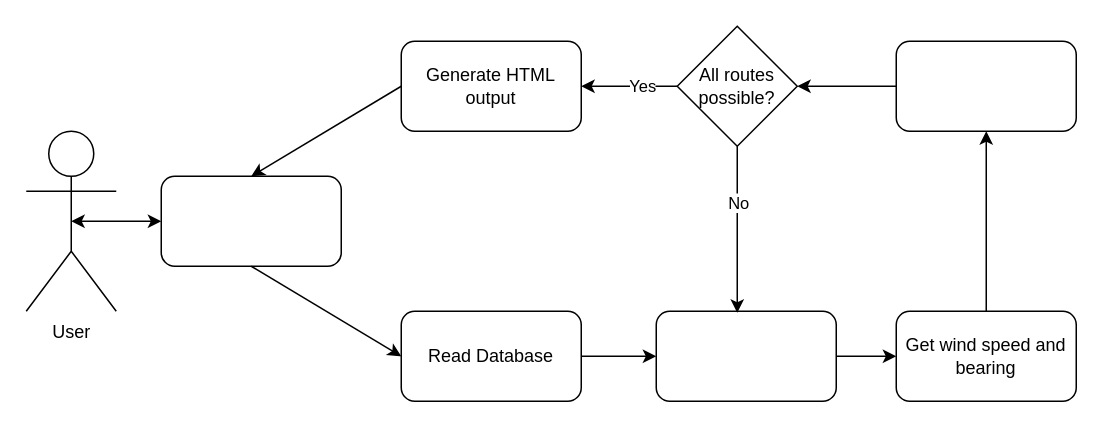
Some shapes in this 1103 by 428 pixel diagram are drawn without their labels. Each missing label, with the centre of its shape:
"Generate routes" belongs at [985,85].
"GUI" belongs at [250,220].
"Sort customers into clusters" belongs at [745,355].
